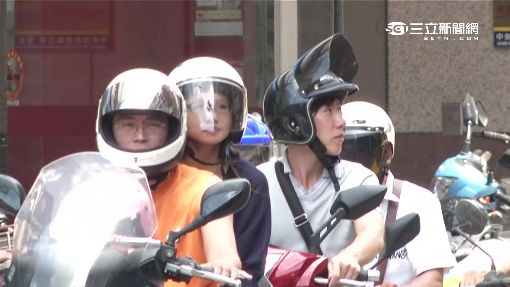helmet: (91, 69, 195, 173), (261, 58, 349, 150), (165, 58, 249, 117), (342, 108, 397, 156)
